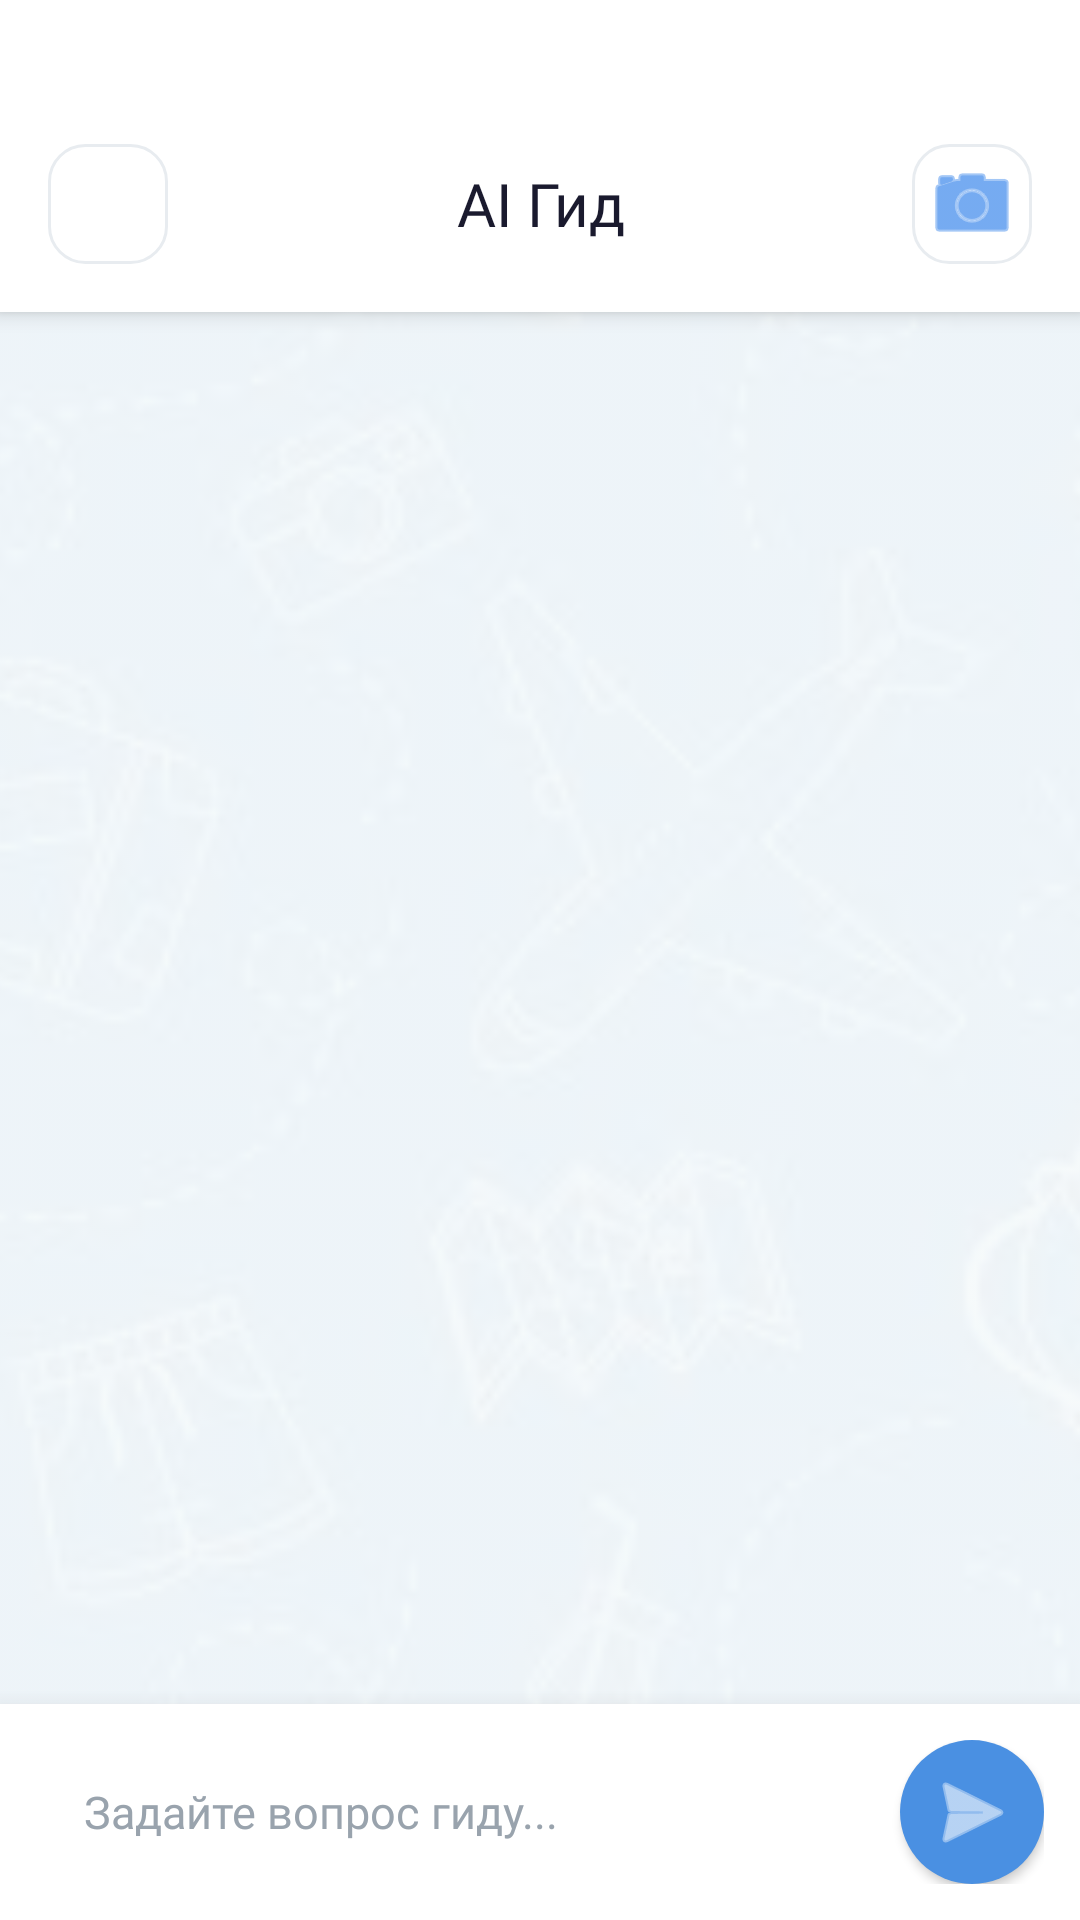

Point at icon controls on the screen. Image size 1080*1920, points as (x=x, y=y).
camera: (x=972, y=202)
send: (x=972, y=1812)
